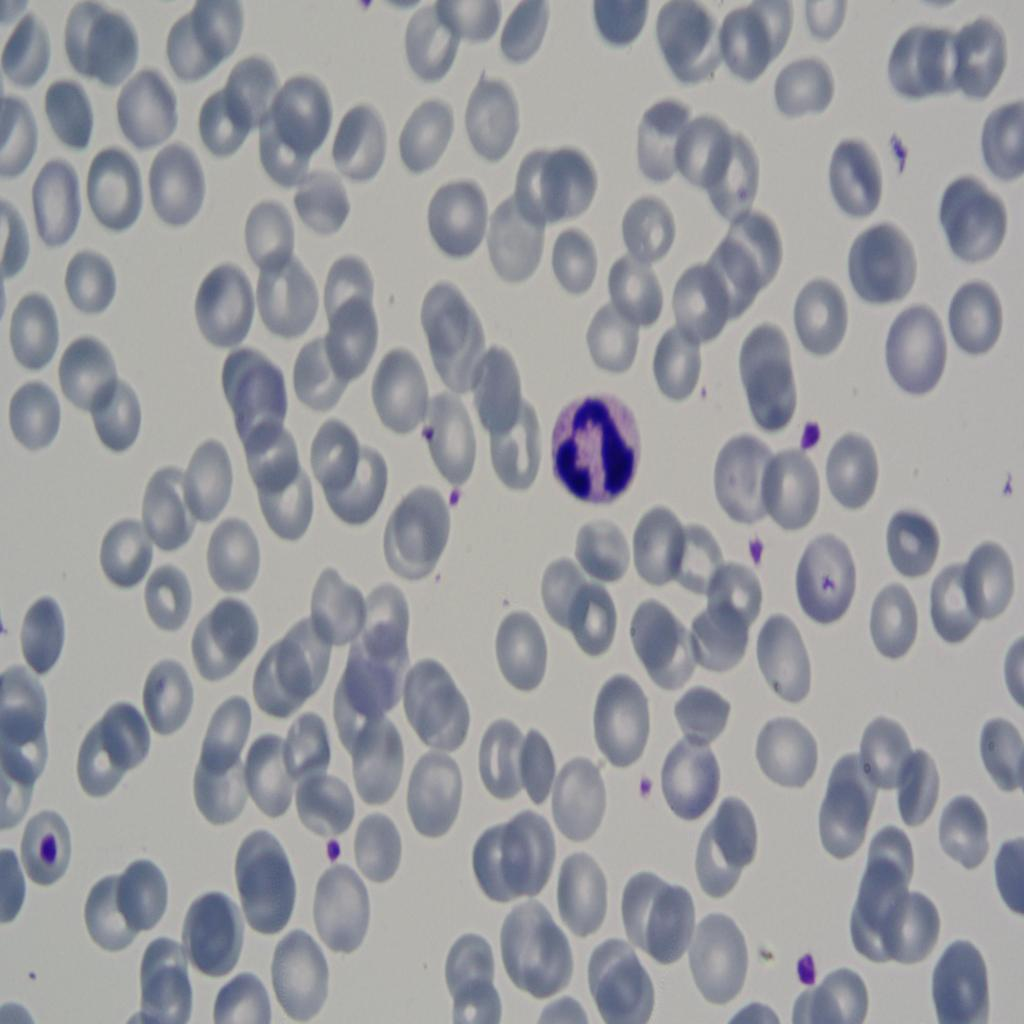Neutrofil: (548, 382, 648, 516)
Platelet: (744, 518, 782, 572), (794, 408, 835, 456), (788, 938, 828, 986), (628, 756, 664, 808), (322, 826, 360, 870), (434, 475, 475, 515), (36, 821, 71, 861), (415, 415, 446, 453)
